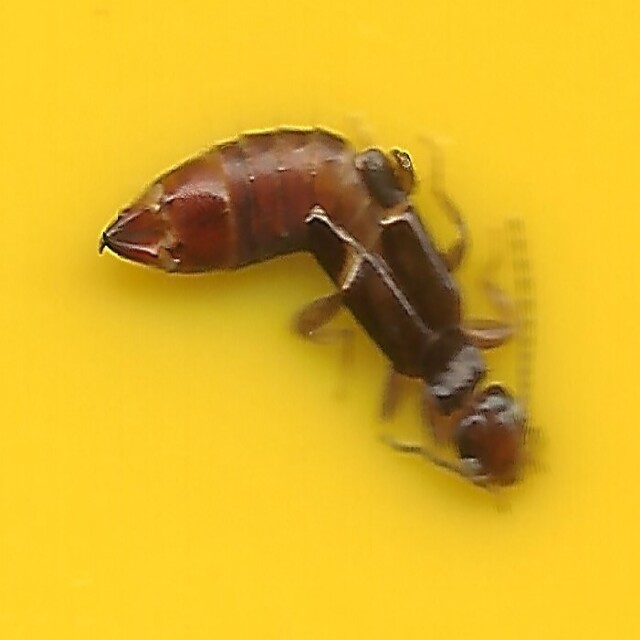Coleoptera: (91, 126, 549, 514)
